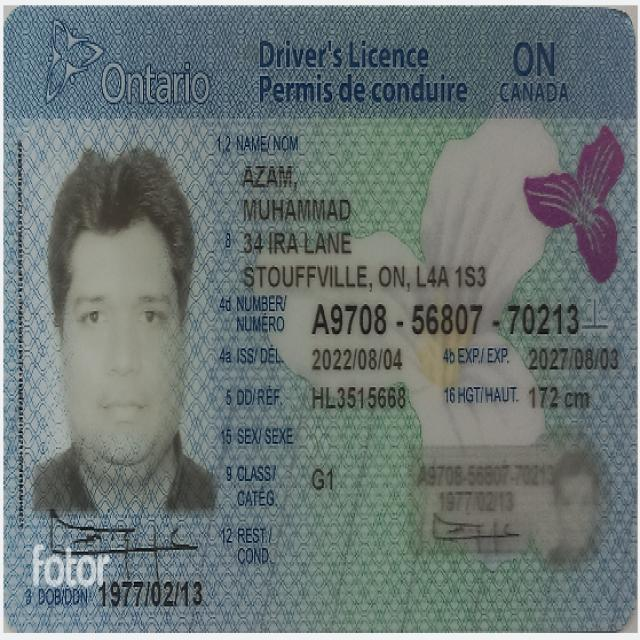Adidas: (4, 4, 640, 640), (2, 488, 254, 632)
